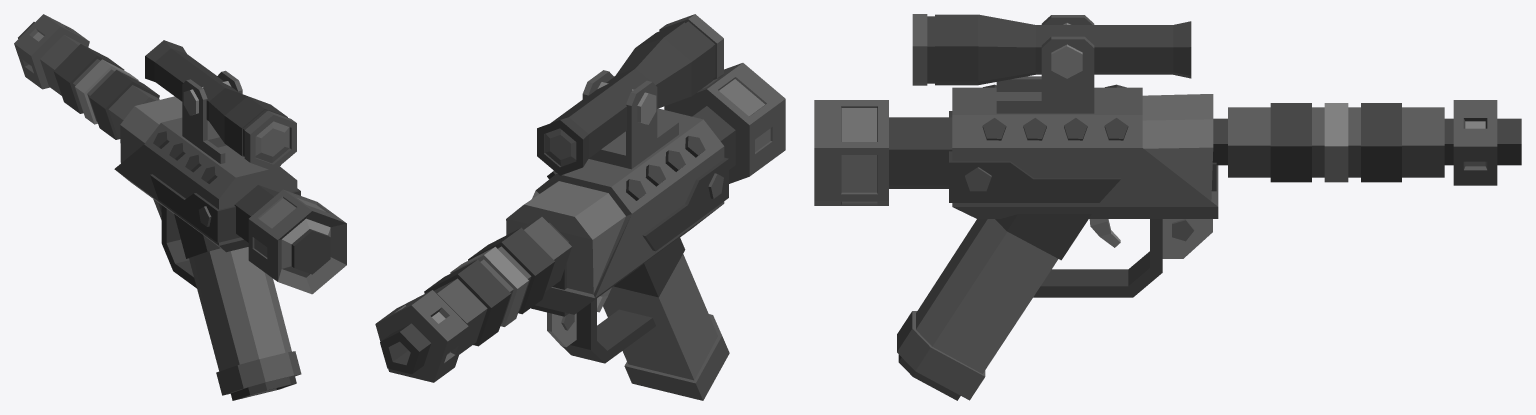
File: pistol_5.glb
3 renders of one model, left to right at view 1: azimuth 30°, elevation 25°; view 2: azimuth 150°, elevation 25°; view 3: azimuth 270°, elevation 25°, orthographic. The views are drawn at different scales.
Visible parts, largest first — view 1: pistol_5, pistol_scope_5, pistol_charger_5; view 2: pistol_5, pistol_scope_5; view 3: pistol_5, pistol_scope_5.
Part boxes in pixels (x1=…): pistol_5: x1=14, y1=14, x2=346, y2=395; pistol_scope_5: x1=145, y1=40, x2=296, y2=170; pistol_charger_5: x1=230, y1=376, x2=296, y2=400; pistol_5: x1=375, y1=63, x2=785, y2=400; pistol_scope_5: x1=537, y1=14, x2=723, y2=175; pistol_5: x1=814, y1=84, x2=1521, y2=400; pistol_scope_5: x1=912, y1=14, x2=1191, y2=113.
Bounding box in the file's own units: 0.3196 × 1.02 × 1.76.
1 material, 1 textured.
